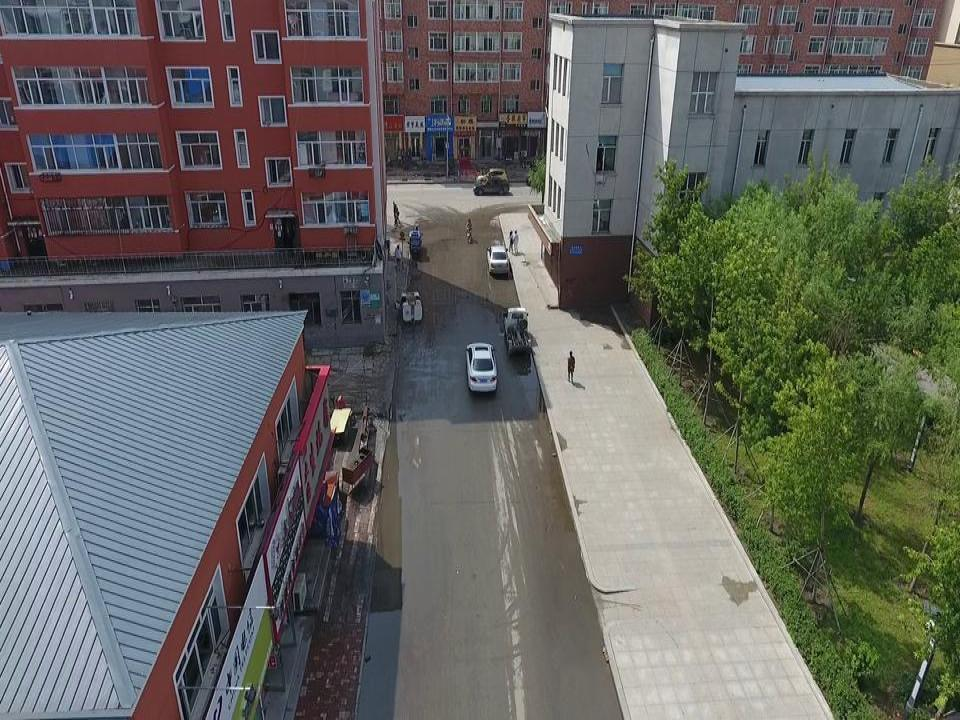car: (464, 344, 497, 392), (485, 245, 509, 275), (472, 177, 509, 195), (476, 169, 508, 187)
truck: (504, 307, 532, 357)
